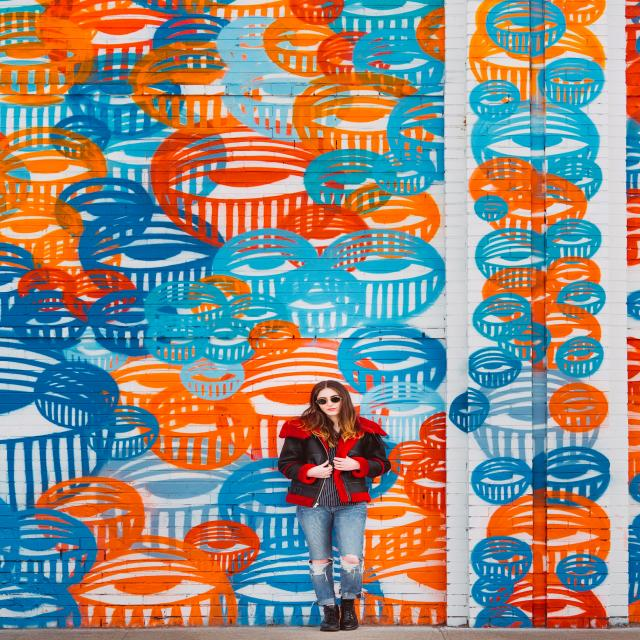adult: (280, 382, 386, 632)
